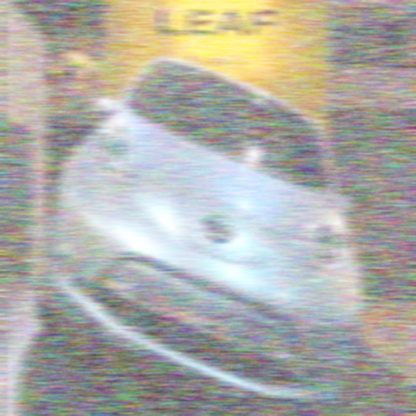Vehicle: (34, 51, 366, 416)
